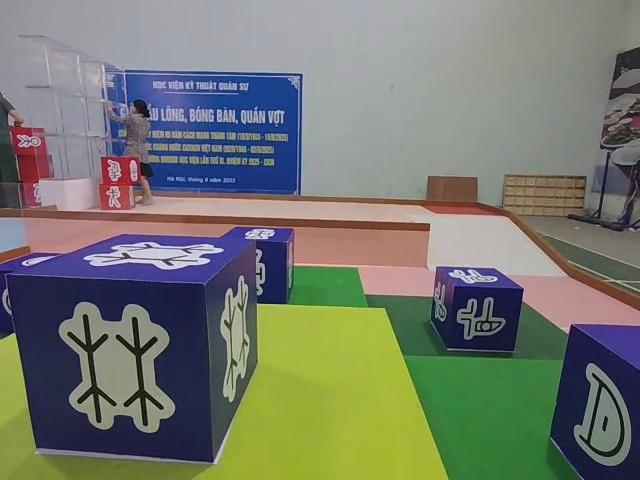R2 Real Blue: (5, 229, 261, 466), (552, 324, 640, 480), (432, 269, 525, 356)
